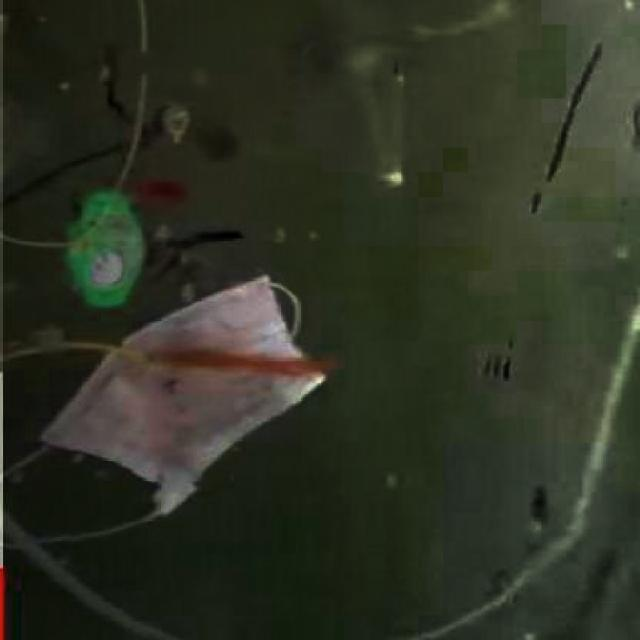Mask: (21, 275, 341, 550)
